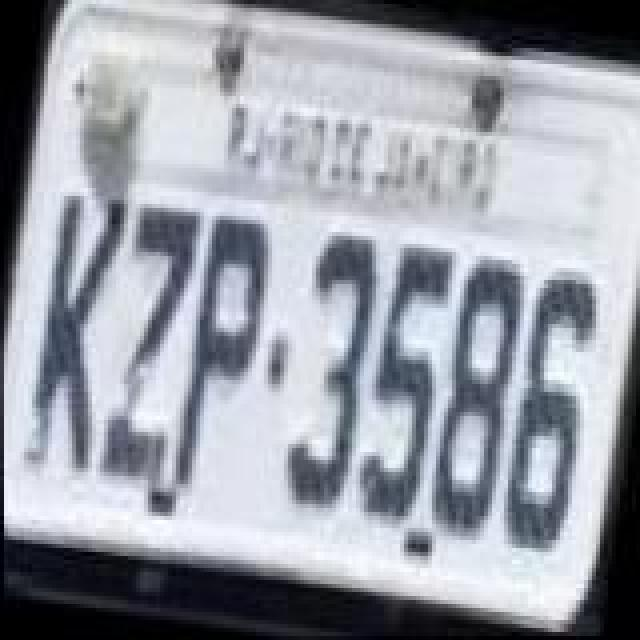3: (274, 222, 386, 518)
5: (346, 236, 454, 532)
6: (490, 260, 606, 556)
8: (422, 248, 530, 544)
K: (18, 186, 130, 478)
P: (172, 212, 280, 500)
Z: (92, 194, 200, 486)
